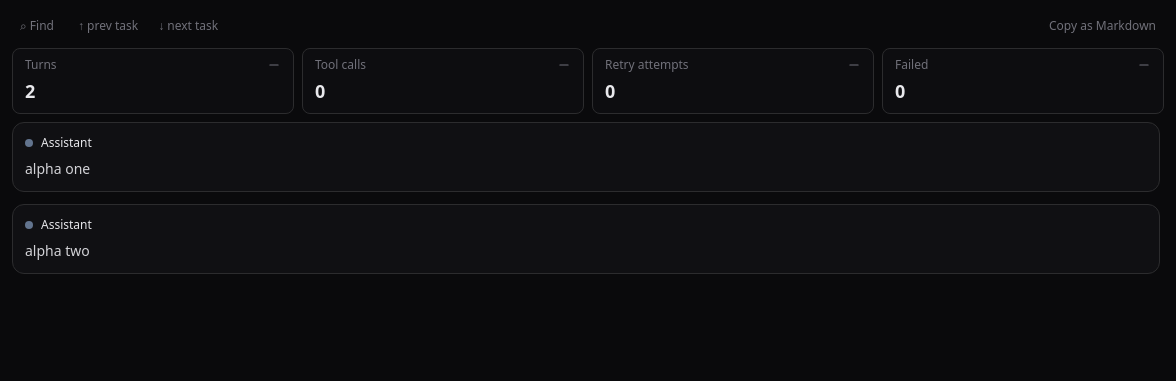
it: ConversationTimeline find tiers and hotkeys › resets the find cursor when the query changes
Click the button "⌕ Find" at (37, 26), box [12,12,62,40]
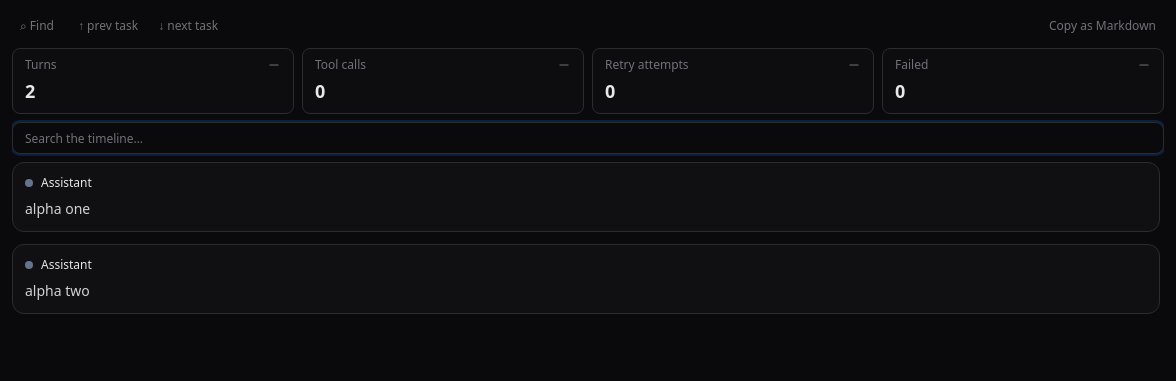
Type "alpha" into the field with test id "timeline-find" at (588, 138), box [12,122,1164,154]
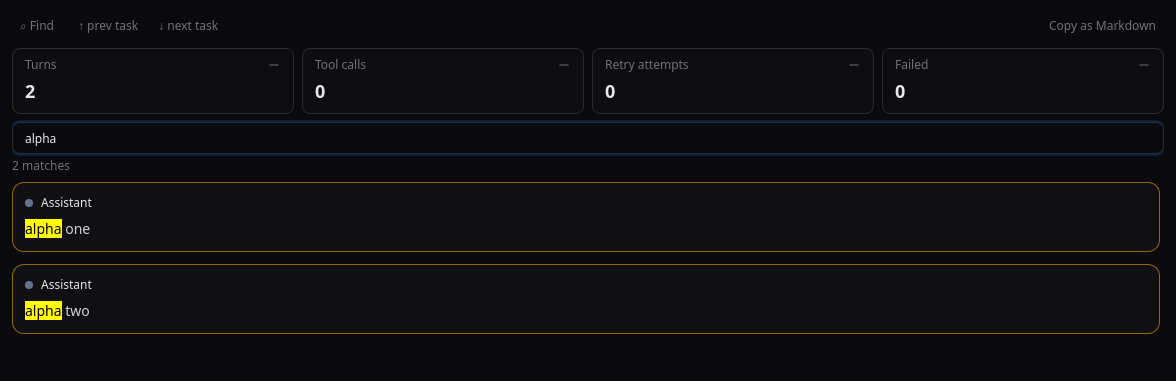
Press Enter in the field with test id "timeline-find", box [12,122,1164,154]
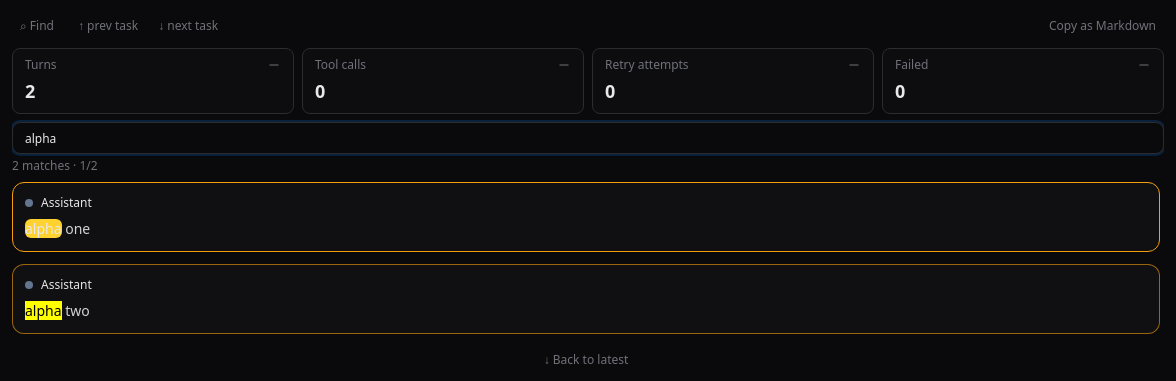
Expected: the text "· 1/2" is shown, [70,157,98,174]
Replace the text in the field with test id "timeline-find" with "one" at (588, 138), box [12,122,1164,154]
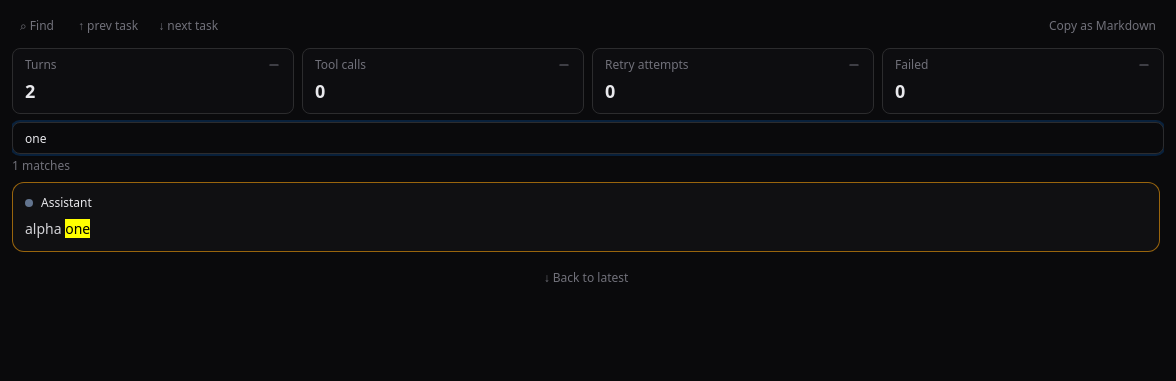
Expected: the text "1 matches" is shown, [12,157,70,174]
Expected: the text with test id "find-current-position" is gone
